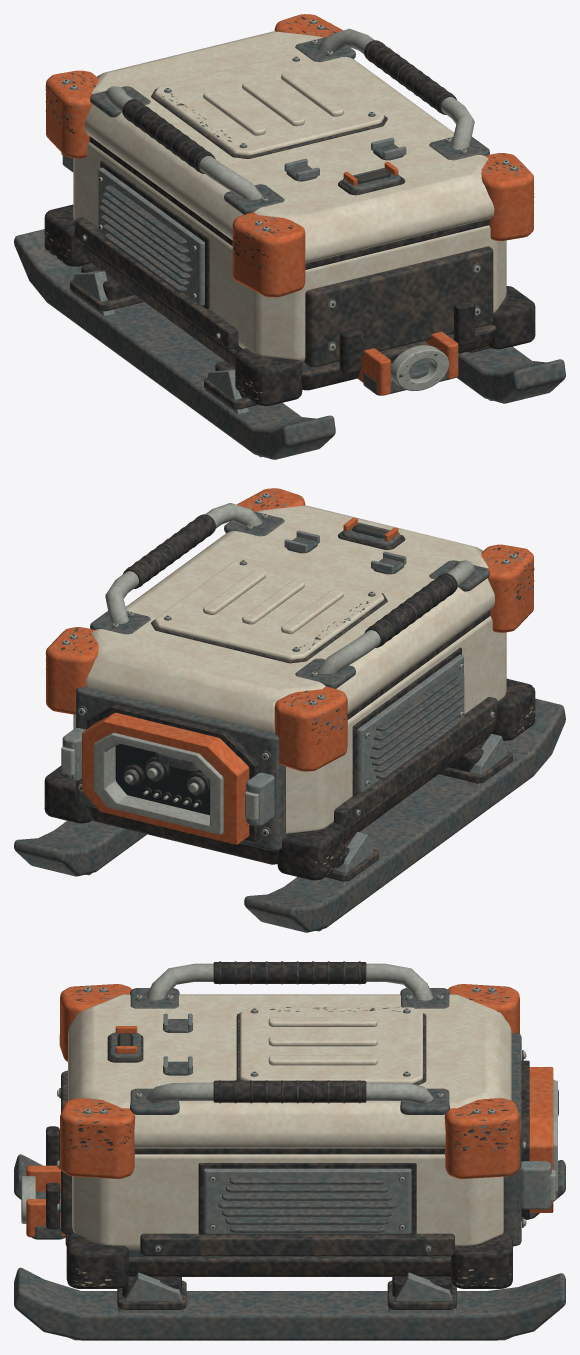
File: power_module.glb
The picture shows the model from 3 angles, top to bottom: view 1: azimuth 30°, elevation 25°; view 2: azimuth 150°, elevation 25°; view 3: azimuth 270°, elevation 25°; orthographic projection.
Visible parts, largest first — view 1: PowerModule_rover_white, PowerModule_graphite, Skid_dark_alloy, PowerModule_orange, PowerModule_black_rubber, PowerModule_dark_alloy, Handles_black_rubber, PowerModule_alloy, Handles_satin_steel, Handles_dark_alloy, PowerModule_satin_steel, Skid_alloy (+3 smaller); view 2: PowerModule_rover_white, Skid_dark_alloy, PowerModule_orange, PowerModule_graphite, PowerModule_black_rubber, SocketFace_orange, SocketFace_satin_steel, SocketFace_dark_alloy, PowerModule_dark_alloy, Handles_black_rubber, PowerModule_alloy, Handles_satin_steel (+8 smaller); view 3: PowerModule_rover_white, Skid_dark_alloy, PowerModule_graphite, PowerModule_orange, PowerModule_black_rubber, PowerModule_dark_alloy, PowerModule_alloy, Handles_black_rubber, Handles_satin_steel, Handles_dark_alloy, Skid_alloy, SocketFace_orange (+8 smaller).
Boxes of the visible parts, x1,y1,x2,y2 form: PowerModule_rover_white: [73, 31, 506, 361]; PowerModule_graphite: [44, 17, 534, 401]; Skid_dark_alloy: [14, 229, 565, 459]; PowerModule_orange: [46, 14, 533, 395]; PowerModule_black_rubber: [44, 136, 535, 406]; PowerModule_dark_alloy: [61, 21, 518, 395]; Handles_black_rubber: [122, 40, 456, 173]; PowerModule_alloy: [45, 16, 524, 389]; Handles_satin_steel: [105, 28, 474, 201]; Handles_dark_alloy: [90, 37, 489, 214]; PowerModule_satin_steel: [63, 19, 516, 390]; Skid_alloy: [71, 271, 511, 457]; PowerModule_rover_white: [73, 505, 506, 833]; Skid_dark_alloy: [14, 698, 565, 932]; PowerModule_orange: [46, 488, 533, 771]; PowerModule_graphite: [44, 493, 534, 877]; PowerModule_black_rubber: [44, 530, 535, 880]; SocketFace_orange: [82, 712, 249, 844]; SocketFace_satin_steel: [61, 708, 268, 836]; SocketFace_dark_alloy: [75, 687, 285, 851]; PowerModule_dark_alloy: [61, 495, 518, 815]; Handles_black_rubber: [123, 514, 457, 647]; PowerModule_alloy: [52, 491, 533, 792]; Handles_satin_steel: [105, 503, 474, 675]; PowerModule_rover_white: [68, 994, 511, 1250]; Skid_dark_alloy: [14, 1154, 565, 1340]; PowerModule_graphite: [57, 986, 513, 1288]; PowerModule_orange: [26, 984, 519, 1237]; PowerModule_black_rubber: [46, 1035, 512, 1288]; PowerModule_dark_alloy: [31, 989, 496, 1256]; PowerModule_alloy: [72, 986, 508, 1234]; Handles_black_rubber: [213, 962, 366, 1102]; Handles_satin_steel: [136, 963, 443, 1103]; Handles_dark_alloy: [130, 988, 449, 1114]; Skid_alloy: [70, 1272, 511, 1340]; SocketFace_orange: [529, 1067, 553, 1212].
Bounding box in the file's own units: 0.5954 × 0.5008 × 0.9968.
10 materials, 8 textured.
